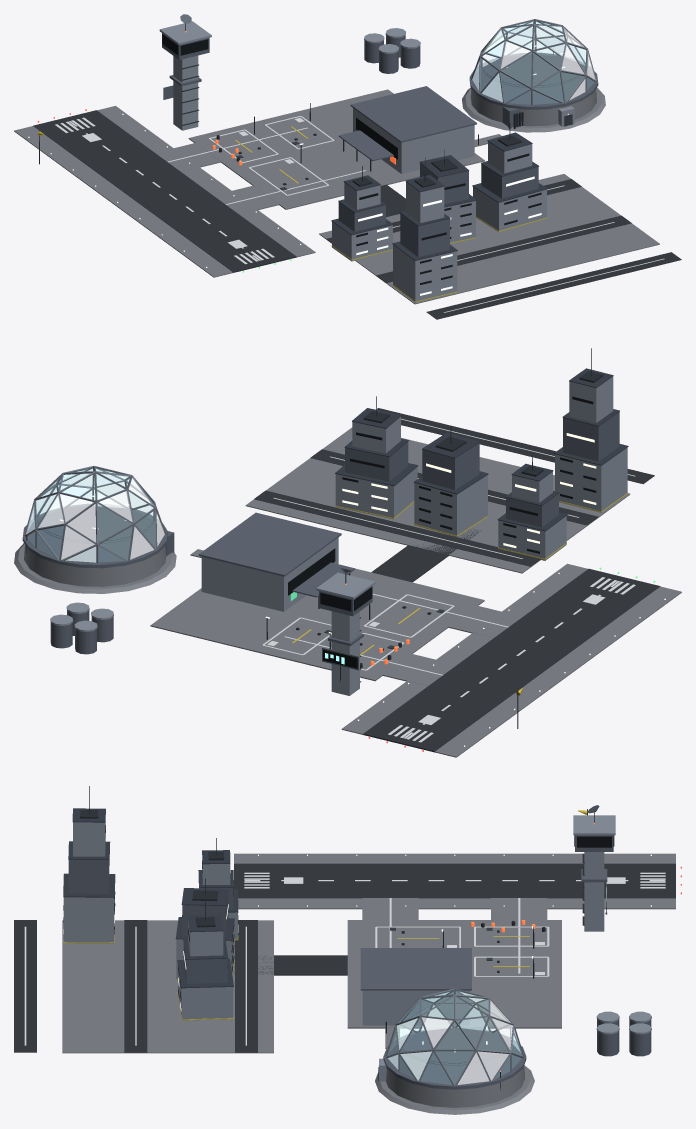
File: city-port-s.glb
3 views of the same model, one above another, from view 1: azimuth 30°, elevation 25°; view 2: azimuth 150°, elevation 25°; view 3: azimuth 270°, elevation 25° (orthographic). The views are drawn at different scales.
Parts seen in each view (by area): view 1: strip, apron, cityPlaza, dome0RingBeam, dome0Glazing, stripShoulder1, terminalRoof, stripShoulder0, cityRoad2, terminal, city3Mass0, dome0GlazingGlare (+20 smaller); view 2: strip, apron, cityPlaza, dome0RingBeam, terminalRoof, stripShoulder1, dome0GlazingGlare, dome0Glazing, terminal, stripShoulder0, cityRoad0, city3Mass0 (+20 smaller); view 3: cityPlaza, strip, apron, dome0RingBeam, dome0Glazing, terminalRoof, stripShoulder1, stripShoulder0, dome0GlazingGlare, cityRoad1, cityRoad2, terminal (+20 smaller).
Boxes of the visible parts, x1,y1,x2,y2 form: strip: (33,110,296,272); apron: (188,89,484,209); cityPlaza: (319,174,659,304); dome0RingBeam: (469,52,598,109); dome0Glazing: (481,21,593,103); stripShoulder1: (14,126,232,277); terminalRoof: (350,86,476,142); stripShoulder0: (97,106,315,257); cityRoad2: (426,252,681,319); terminal: (353,108,474,173); city3Mass0: (393,244,457,302); dome0GlazingGlare: (472,21,595,101); strip: (363,568,660,752); apron: (150,568,484,681); cityPlaza: (245,427,630,573); dome0RingBeam: (22,504,167,568); terminalRoof: (199,512,341,576); stripShoulder1: (435,586,681,757); dome0GlazingGlare: (26,469,164,562); dome0Glazing: (28,468,154,561); terminal: (201,537,338,611); stripShoulder0: (341,563,587,734); cityRoad0: (254,490,540,566); city3Mass0: (555,447,627,512); cityPlaza: (62,920,273,1053); strip: (234,863,675,898); apron: (347,920,561,1028); dome0RingBeam: (383,1026,526,1089); dome0Glazing: (387,990,522,1084); terminalRoof: (360,948,471,990); stripShoulder1: (234,853,675,863); stripShoulder0: (238,898,675,909); dome0GlazingGlare: (388,992,520,1084); cityRoad1: (124,920,147,1052); cityRoad2: (14,920,36,1052); terminal: (362,990,469,1025).
Size of the model in its own units: 138 by 35.3 by 145.
